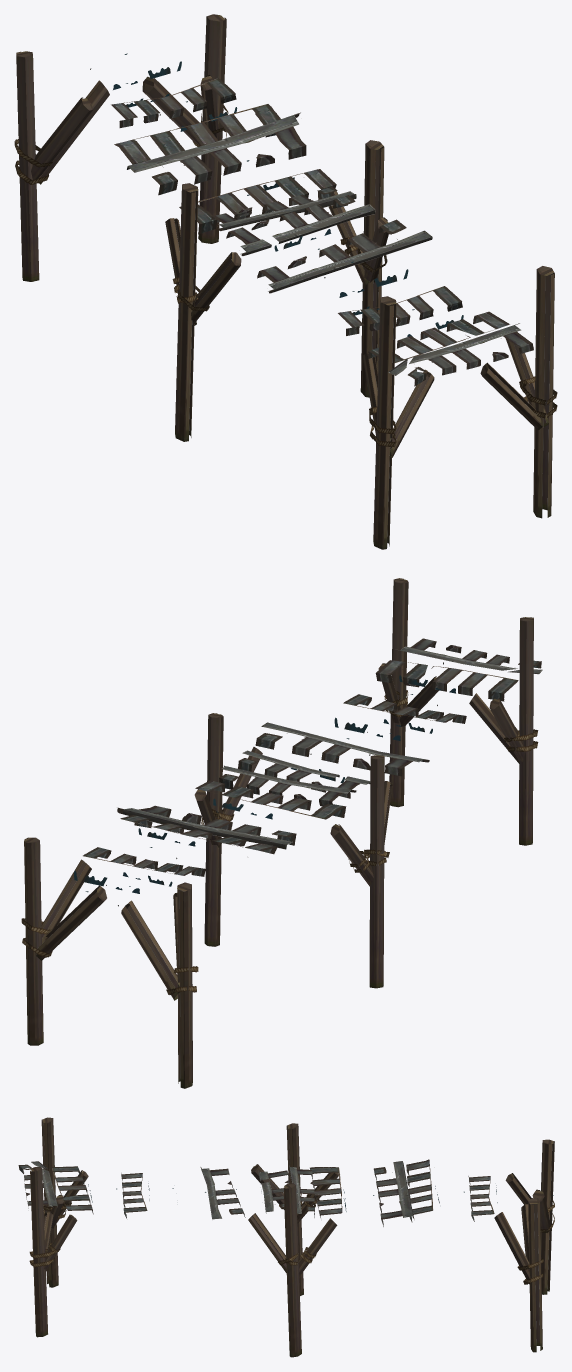
Rendered from DaQiao.FBX.
The picture shows the model from 3 angles, top to bottom: view 1: azimuth 30°, elevation 25°; view 2: azimuth 150°, elevation 25°; view 3: azimuth 270°, elevation 25°; orthographic projection. The views are drawn at different scales.
Parts seen in each view (by area): view 1: Qiao, sheng; view 2: Qiao, sheng; view 3: Qiao, sheng.
Part boxes in pixels (x1=…): Qiao: x1=16, y1=14, x2=554, y2=549; sheng: x1=14, y1=105, x2=557, y2=447; Qiao: x1=24, y1=578, x2=542, y2=1088; sheng: x1=21, y1=690, x2=538, y2=994; Qiao: x1=18, y1=1117, x2=554, y2=1357; sheng: x1=29, y1=1193, x2=554, y2=1284.
Size of the model in its own units: 166 by 189 by 511.
